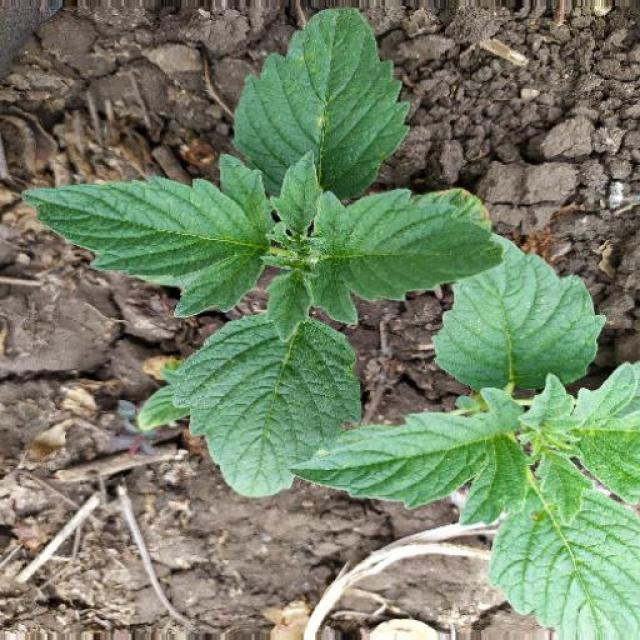crop: (29, 8, 470, 500), (340, 233, 639, 638)
